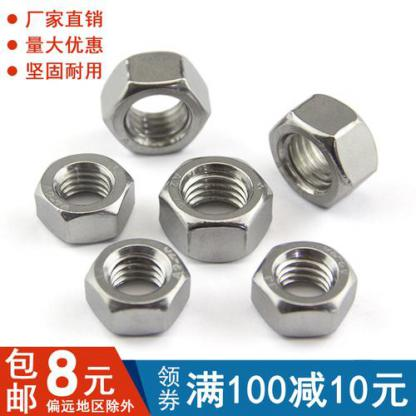FOD: (267, 92, 379, 211), (100, 48, 212, 160), (158, 155, 272, 263), (82, 235, 192, 337), (248, 239, 357, 340), (34, 151, 138, 248)
